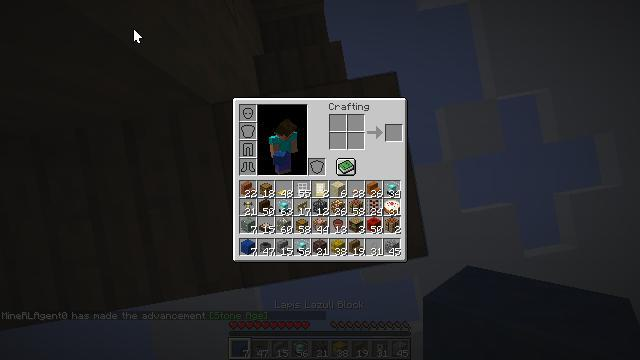cursor: (133, 28, 143, 44)
